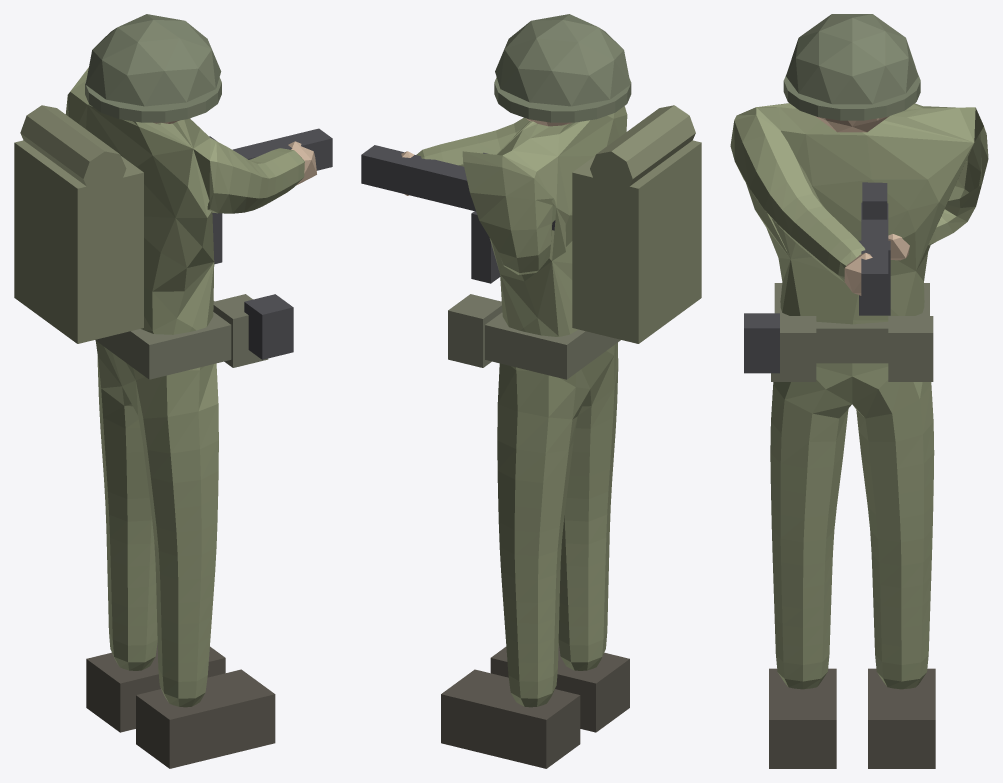
The model's file is trooper_us.glb.
3 views of the same model, side by side, from view 1: azimuth 30°, elevation 25°; view 2: azimuth 150°, elevation 25°; view 3: azimuth 270°, elevation 25° (orthographic).
Parts seen in each view (by area): view 1: trooper_us; view 2: trooper_us; view 3: trooper_us.
Boxes of the visible parts, bbox=[...] form: trooper_us: bbox=[14, 14, 332, 768]; trooper_us: bbox=[361, 14, 701, 768]; trooper_us: bbox=[730, 14, 988, 768].
Bounding box in the file's own units: 0.745 × 1.74 × 0.5723.
